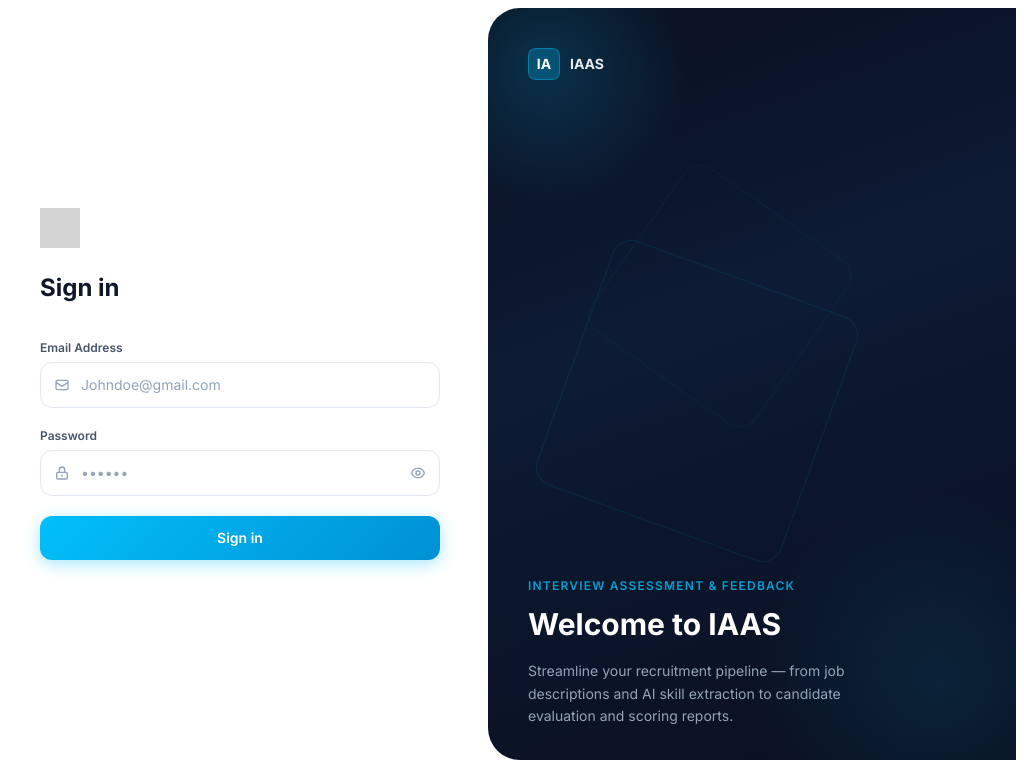
it: Login page — validation › shows error when email is empty on submit
Click the button "Sign in" at (240, 538), box 40,516 -> 440,560
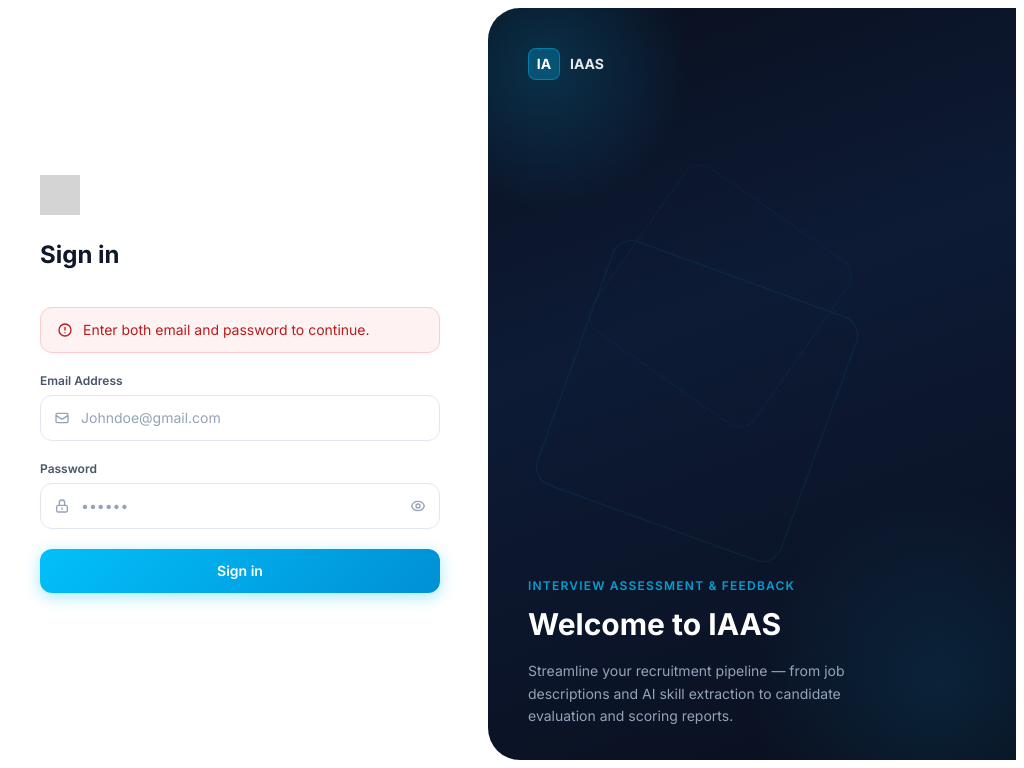
Expected: the text "Enter both email and password to continue." is shown, 40,307 -> 440,353
